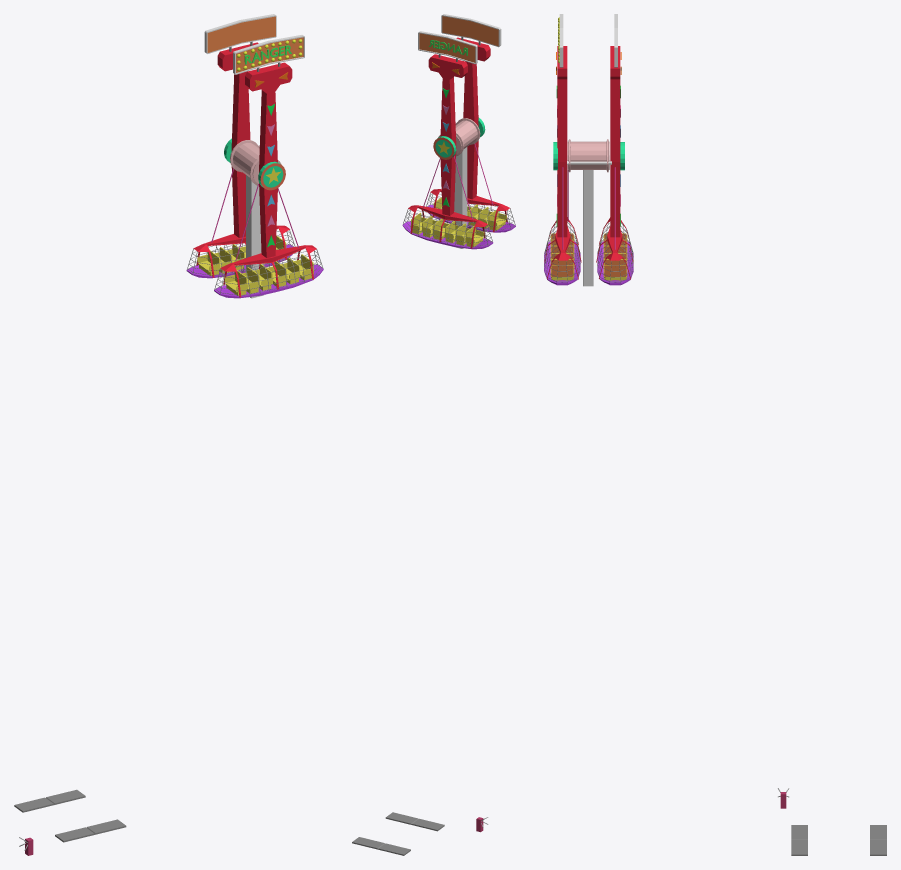
File: rangger.fbx
3 renders of one model, left to right at view 1: azimuth 30°, elevation 25°; view 2: azimuth 150°, elevation 25°; view 3: azimuth 270°, elevation 25°, orthographic. The views are drawn at different scales.
Visible parts, largest first — view 1: Plane.004, Plane.003, Plane.002, entrance; view 2: Plane.003, Plane.004, Plane.002, entrance; view 3: Plane.004, Plane.003, Plane.002, entrance.
Boxes of the visible parts, x1,y1,x2,y2 form: Plane.004: (214,35,323,298); Plane.003: (186,14,295,278); Plane.002: (230,140,281,298); entrance: (14,789,126,855); Plane.003: (402,31,493,249); Plane.004: (426,14,515,232); Plane.002: (438,118,480,248); entrance: (352,812,488,855); Plane.004: (544,14,581,285); Plane.003: (596,14,633,285); Plane.002: (567,139,611,286); entrance: (778,788,886,855).
Bounding box in the file's own units: 33.24 × 149 × 55.1.
